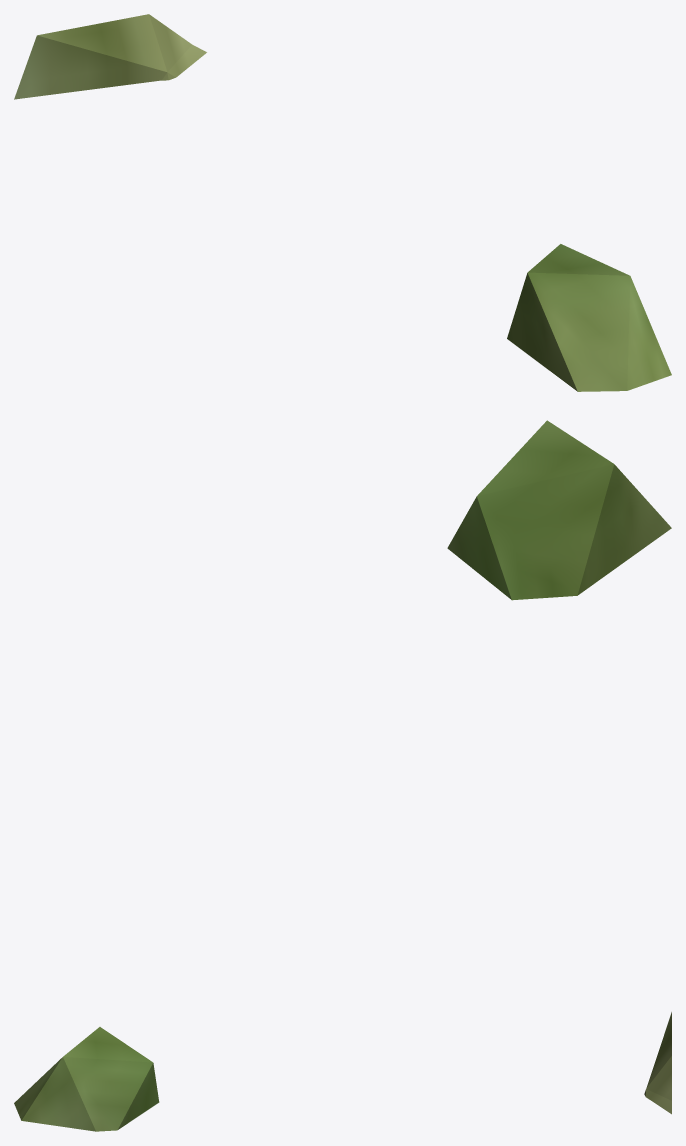
The picture shows the model from 3 angles, top to bottom: view 1: azimuth 30°, elevation 25°; view 2: azimuth 150°, elevation 25°; view 3: azimuth 270°, elevation 25°; orthographic projection. The views are drawn at different scales.
Bounding box in the file's own units: 0.1575 × 0.0531 × 0.5105.
Materials: 1 (1 with a texture image).
